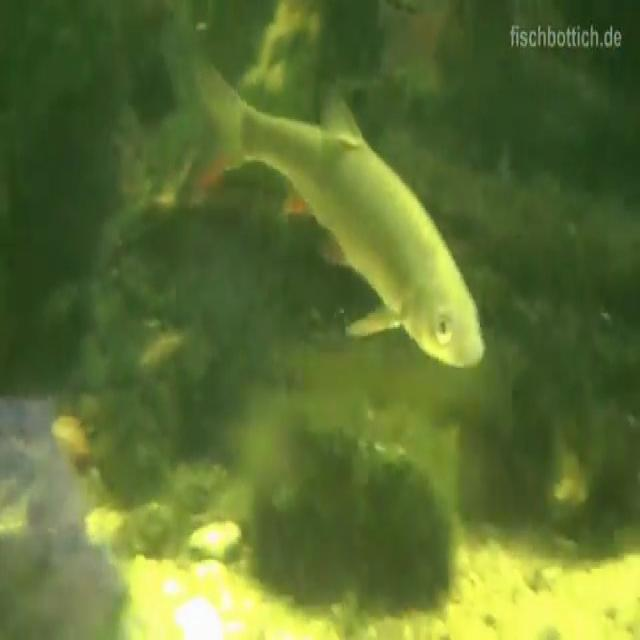Cakil Baligi: (165, 24, 488, 378)
